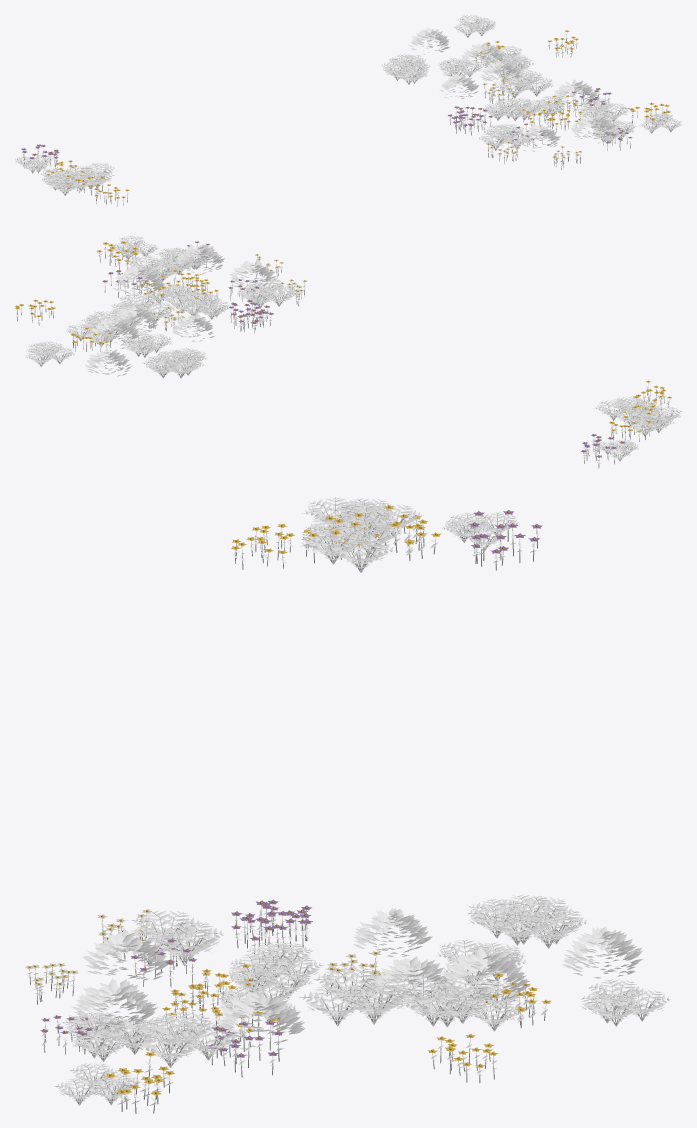
The model's file is SM_DF_Explorer_3_1_Flora.fbx.
3 views of the same model, one above another, from view 1: azimuth 30°, elevation 25°; view 2: azimuth 150°, elevation 25°; view 3: azimuth 270°, elevation 25° (orthographic). The views are drawn at different scales.
Parts seen in each view (by area): view 1: SM_DF_Explorer_3_1_Flora; view 2: SM_DF_Explorer_3_1_Flora; view 3: SM_DF_Explorer_3_1_Flora.
Part boxes in pixels (box(x1,y1,x2,y2)): SM_DF_Explorer_3_1_Flora: box(15, 14, 681, 206); SM_DF_Explorer_3_1_Flora: box(14, 235, 681, 468); SM_DF_Explorer_3_1_Flora: box(25, 497, 670, 1113).
Bounding box in the file's own units: 2844 × 1403 × 180.
